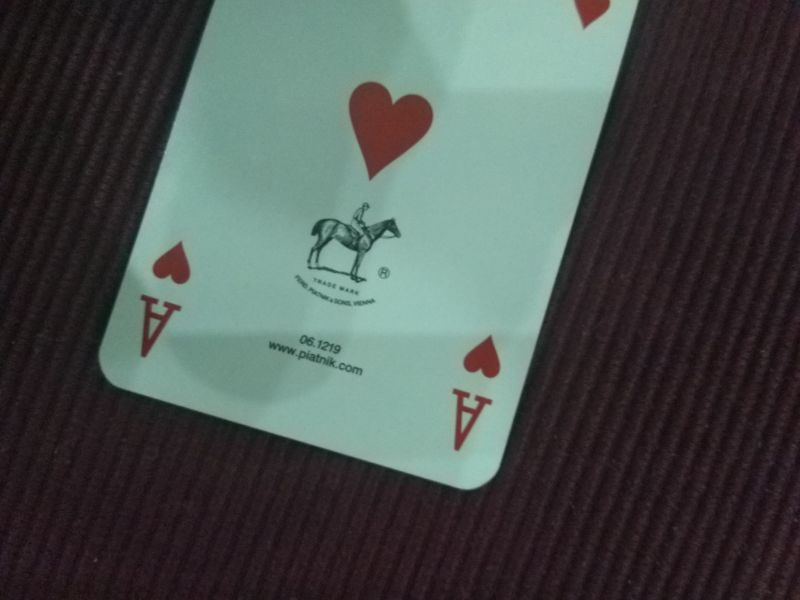Ah: (128, 236, 201, 362), (445, 329, 504, 457)
